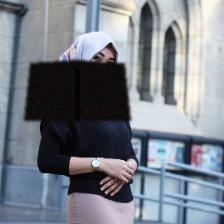Cadar_Niqab: (23, 30, 131, 120)
